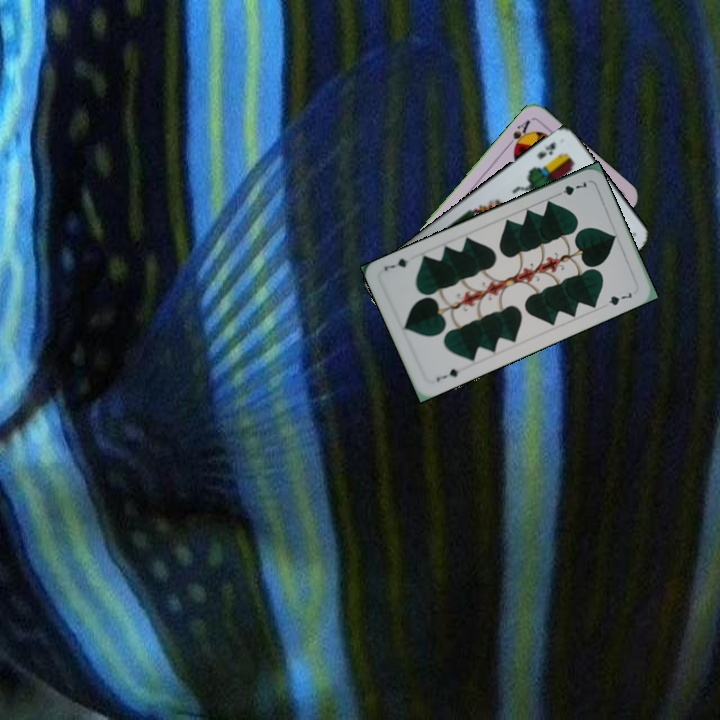EK: (533, 138, 559, 162)
G7: (551, 177, 589, 199), (432, 364, 462, 384)
SA: (503, 116, 533, 153)
